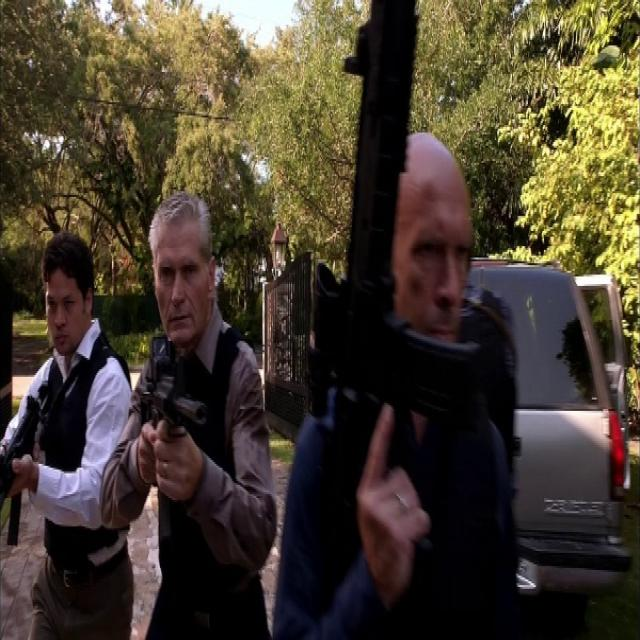rifle: (303, 1, 486, 614), (139, 332, 208, 547), (1, 383, 57, 555)
